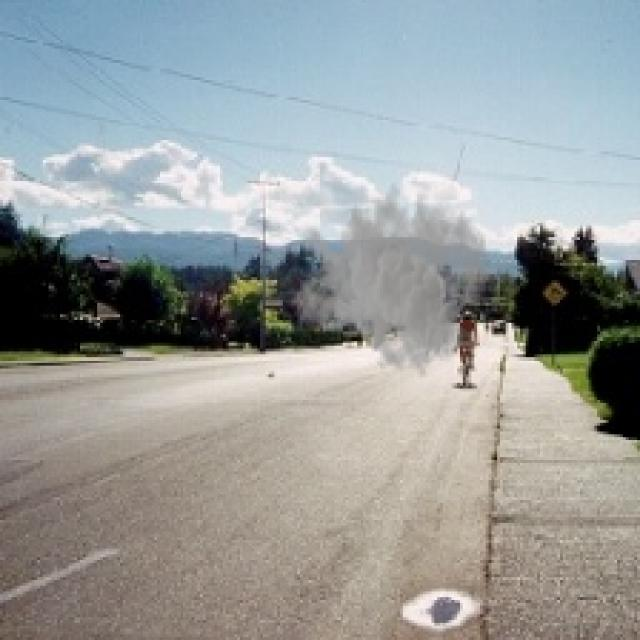smoke: (292, 174, 492, 380)
